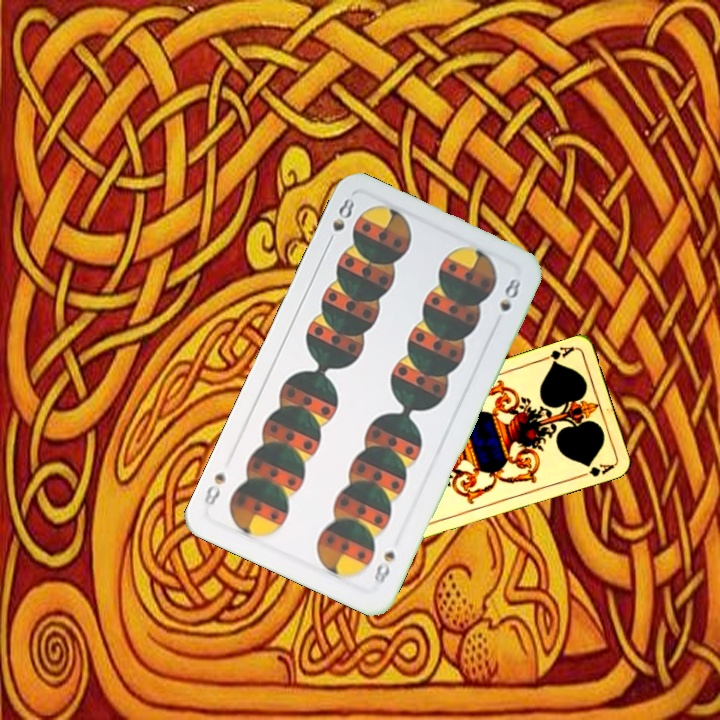GA: (538, 342, 578, 367)
S8: (322, 194, 357, 249), (370, 547, 398, 588)
